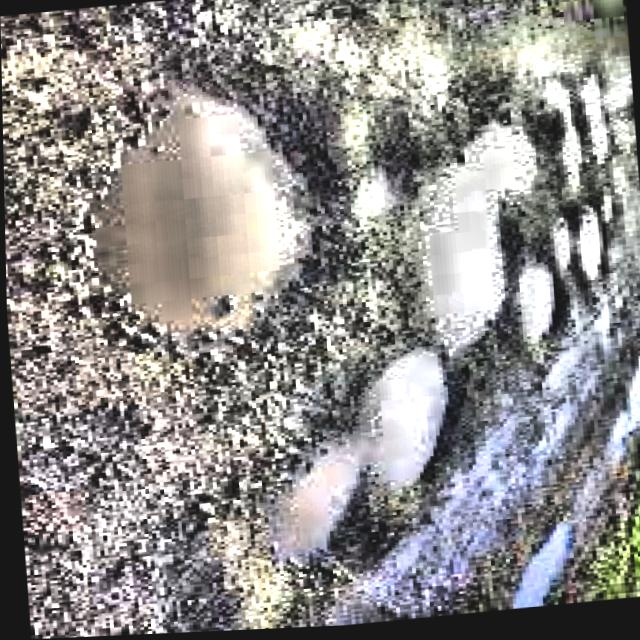pothole: (97, 87, 319, 336)
